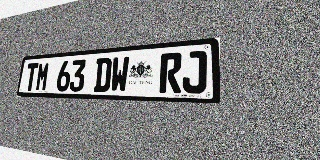3: (69, 59, 86, 92)
6: (56, 60, 72, 91)
D: (93, 57, 112, 92)
J: (182, 50, 207, 94)
M: (35, 62, 50, 91)
R: (159, 52, 182, 93)
T: (24, 63, 39, 91)
W: (110, 56, 130, 92)
